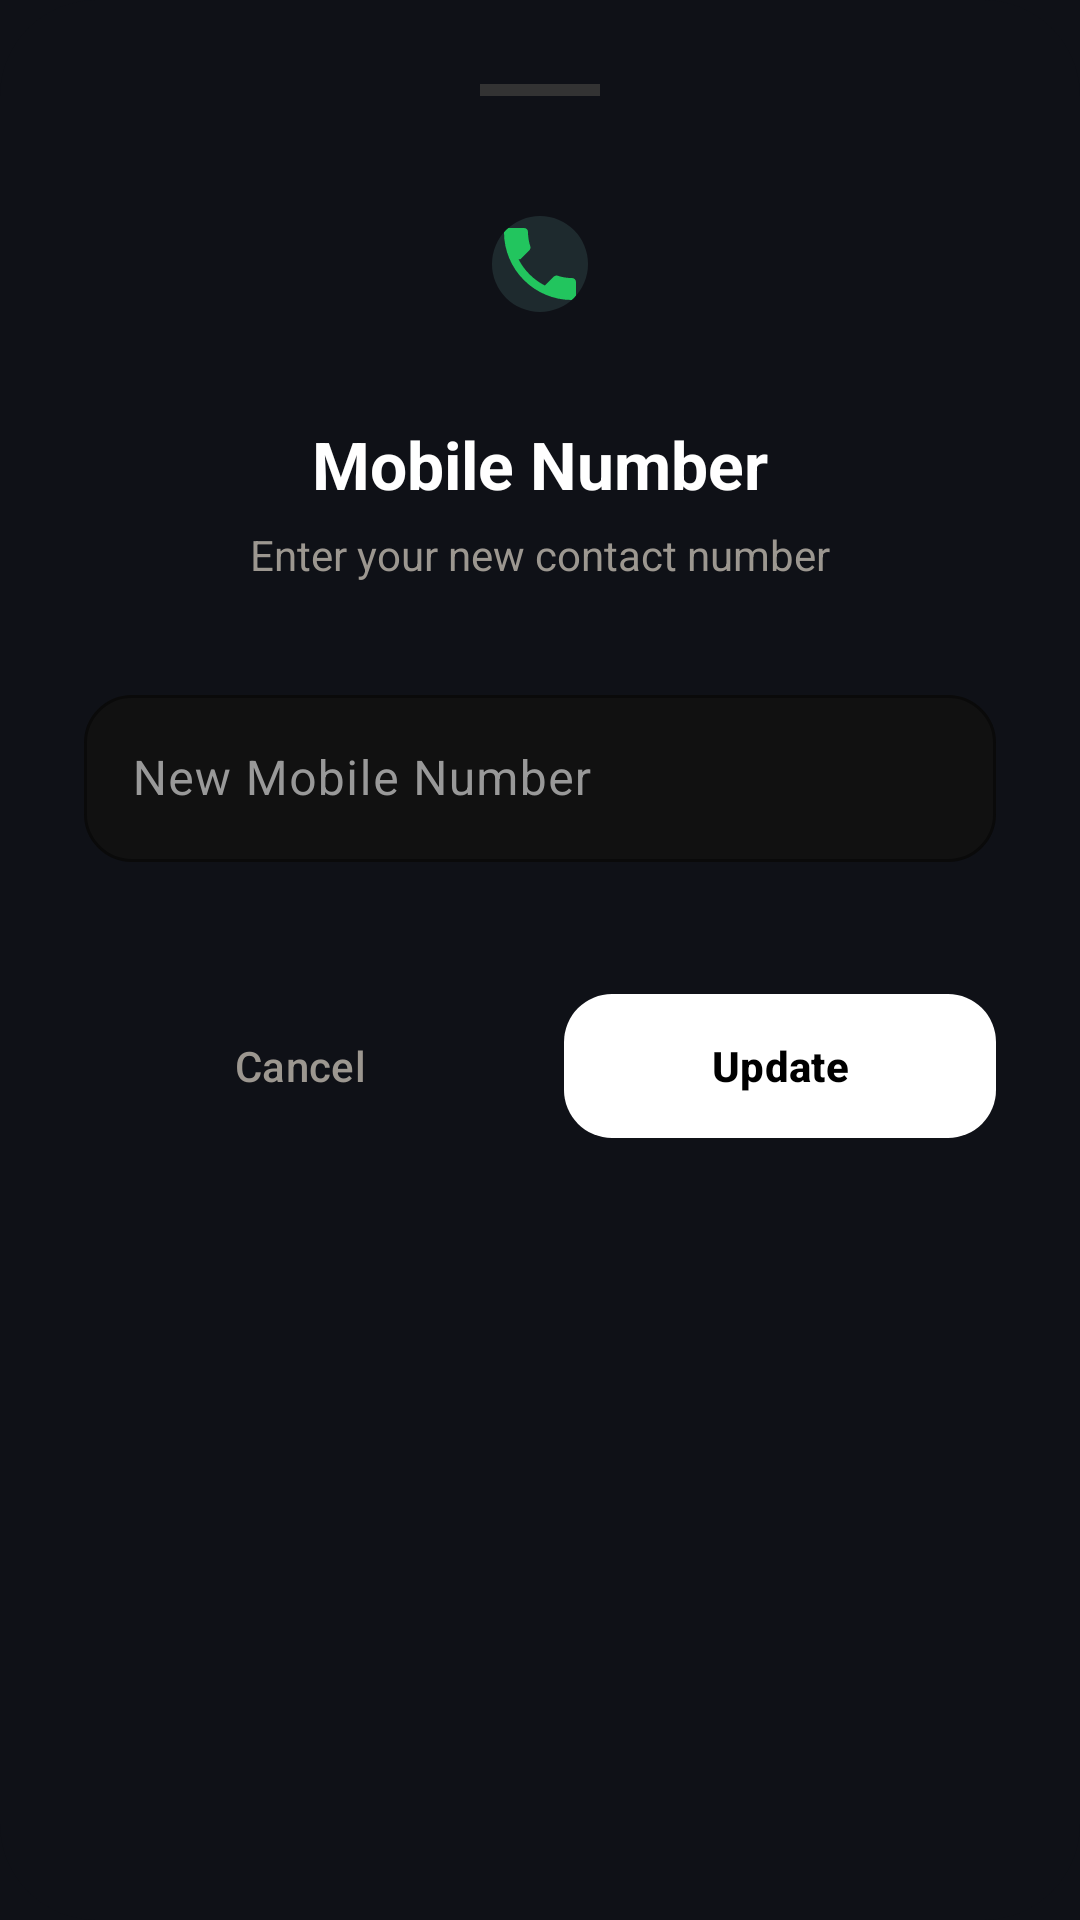

Icon click points for this 1080 × 1920 phone screenshot, format (x,y):
phone: (539,264)
